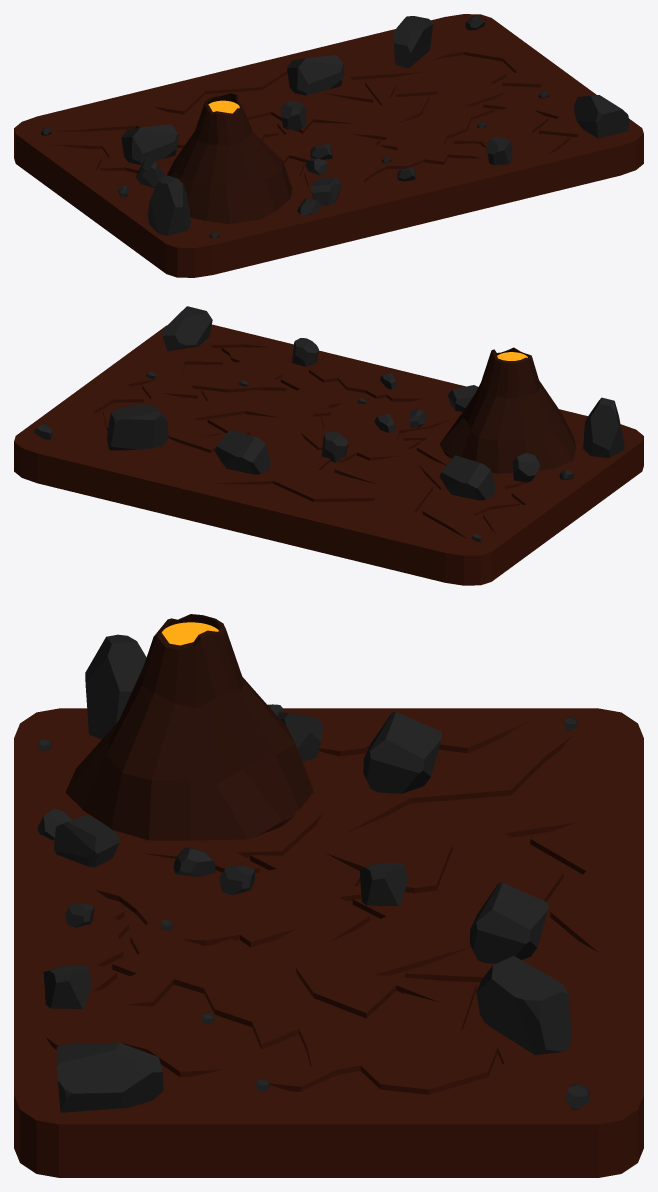
The model's file is Habitat_Remake_fogo_.fbx.
3 views of the same model, one above another, from view 1: azimuth 30°, elevation 25°; view 2: azimuth 150°, elevation 25°; view 3: azimuth 270°, elevation 25° (orthographic). The views are drawn at different scales.
Visible parts, largest first — view 1: plataforma, vulcão, Pedra1.001, pedra9.002, pedra9.001, Pedra1.002, pedra3.002, pedra9.003, pedra2.001, pedra2.002, pedra2.004; view 2: plataforma, vulcão, pedra3.002, Pedra1.001, pedra9.002, pedra9.001, Pedra1.002, pedra2.001, pedra2.004, pedra2.002, pedra9.003; view 3: plataforma, vulcão, pedra3.002, Pedra1.002, pedra9.001, pedra9.002, Pedra1.001, pedra9.003, pedra2.001, pedra2.002, pedra2.004, pedra4.006 (+2 smaller).
Part boxes in pixels (left/top/right/bottom): plataforma: left=14, top=14, right=643, bottom=277; vulcão: left=167, top=93, right=292, bottom=223; Pedra1.001: left=147, top=175, right=190, bottom=235; pedra9.002: left=287, top=55, right=344, bottom=95; pedra9.001: left=121, top=124, right=178, bottom=164; Pedra1.002: left=574, top=95, right=628, bottom=138; pedra3.002: left=393, top=16, right=433, bottom=68; pedra9.003: left=311, top=177, right=340, bottom=205; pedra2.001: left=280, top=101, right=306, bottom=131; pedra2.002: left=486, top=137, right=512, bottom=165; pedra2.004: left=136, top=157, right=165, bottom=187; plataforma: left=14, top=324, right=643, bottom=585; vulcão: left=440, top=347, right=575, bottom=473; pedra3.002: left=107, top=404, right=168, bottom=450; Pedra1.001: left=583, top=397, right=624, bottom=457; pedra9.002: left=214, top=429, right=270, bottom=474; pedra9.001: left=439, top=455, right=495, bottom=500; Pedra1.002: left=161, top=306, right=212, bottom=351; pedra2.001: left=321, top=431, right=348, bottom=462; pedra2.004: left=512, top=453, right=540, bottom=482; pedra2.002: left=292, top=338, right=318, bottom=366; pedra9.003: left=448, top=385, right=478, bottom=411; plataforma: left=14, top=708, right=643, bottom=1177; vulcão: left=65, top=614, right=313, bottom=840; pedra3.002: left=476, top=956, right=571, bottom=1054; Pedra1.002: left=56, top=1042, right=163, bottom=1112; pedra9.001: left=363, top=712, right=441, bottom=793; pedra9.002: left=469, top=882, right=548, bottom=963; Pedra1.001: left=85, top=634, right=146, bottom=739; pedra9.003: left=54, top=815, right=119, bottom=867; pedra2.001: left=359, top=862, right=407, bottom=905; pedra2.002: left=43, top=965, right=91, bottom=1008; pedra2.004: left=278, top=712, right=322, bottom=761; pedra4.006: left=173, top=847, right=215, bottom=876.
Size of the model in its own units: 500 by 125 by 320.
